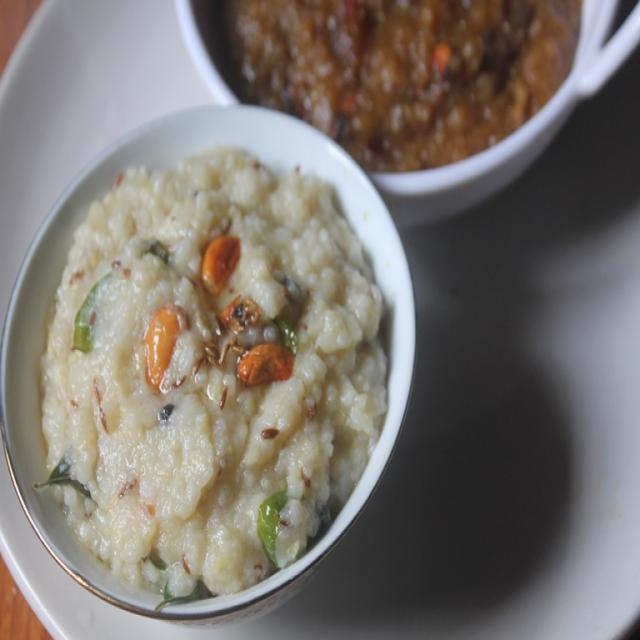khara pongal: (23, 127, 400, 628)
